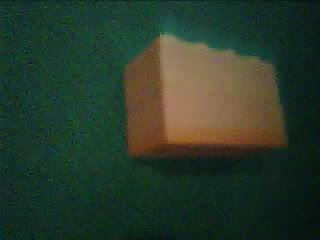lego: (122, 32, 289, 157)
